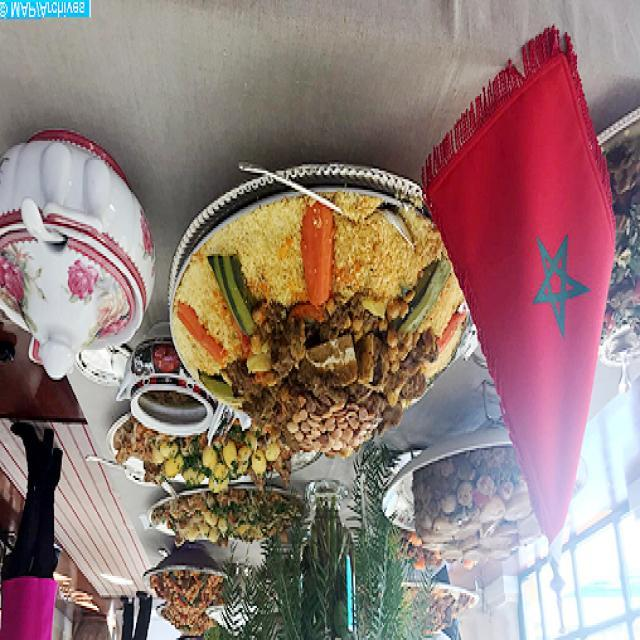Couscous: (173, 186, 468, 464)
